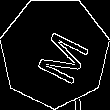M_NW: (23, 20, 87, 84)
